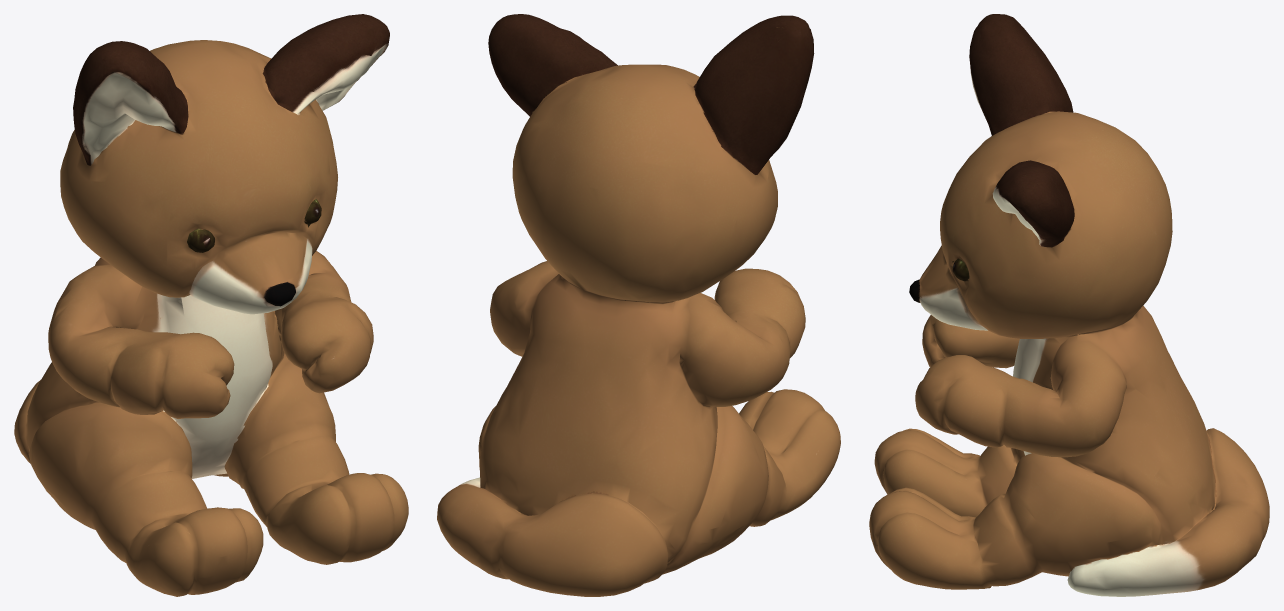
The model's file is katze.glb.
3 renders of one model, left to right at view 1: azimuth 30°, elevation 25°; view 2: azimuth 150°, elevation 25°; view 3: azimuth 270°, elevation 25°, orthographic. The views are drawn at different scales.
Parts seen in each view (by area): view 1: katze; view 2: katze; view 3: katze.
Part boxes in pixels (<box>): katze: <box>14,14,408,596</box>; katze: <box>437,14,840,596</box>; katze: <box>869,14,1269,596</box>.
Bounding box in the file's own units: 0.4333 × 0.7 × 0.5251.
1 material, 1 textured.
